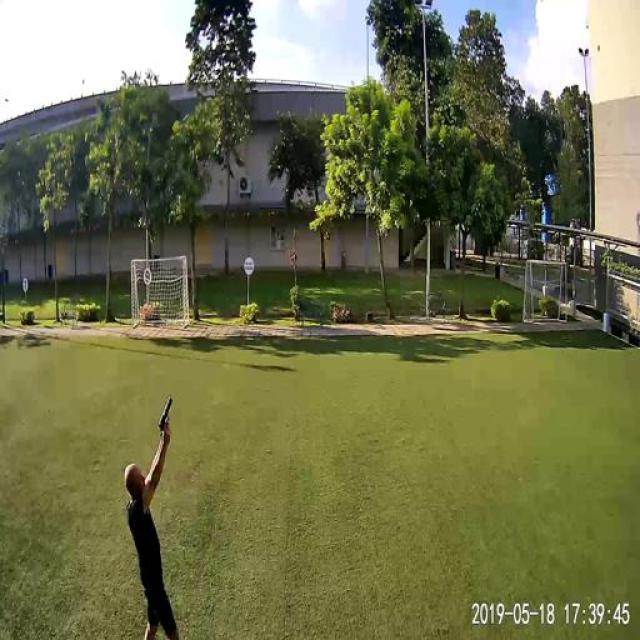Gun: (145, 384, 188, 438)
